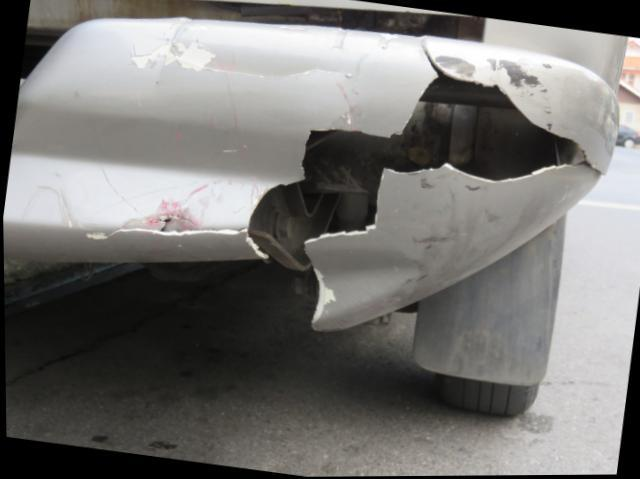crack: (108, 40, 605, 327)
scratch: (438, 51, 558, 131)
